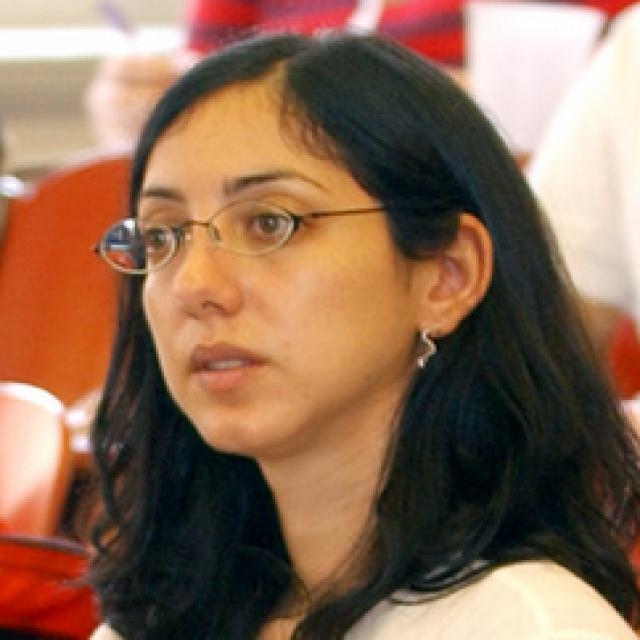Attentive: (136, 81, 376, 458)
